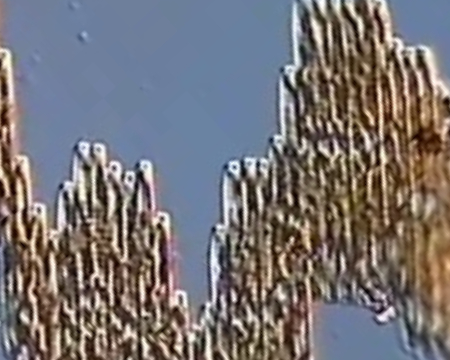fil: (291, 2, 320, 298), (367, 1, 394, 316), (277, 63, 296, 360), (416, 46, 435, 338), (344, 1, 361, 301), (392, 37, 408, 328), (73, 140, 93, 360), (223, 161, 243, 360), (326, 1, 339, 302), (13, 154, 31, 359), (402, 49, 415, 328), (93, 141, 109, 360), (139, 160, 156, 360), (269, 136, 282, 360), (243, 156, 257, 360), (108, 161, 122, 360), (59, 183, 74, 360), (257, 158, 270, 360), (125, 169, 137, 360), (32, 203, 46, 360), (156, 210, 170, 360), (46, 228, 60, 360), (214, 223, 226, 360), (172, 288, 189, 360), (202, 303, 212, 360), (192, 326, 200, 360)
